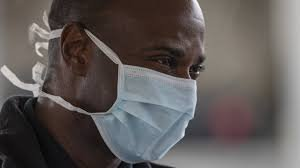mask: (43, 4, 232, 161)
